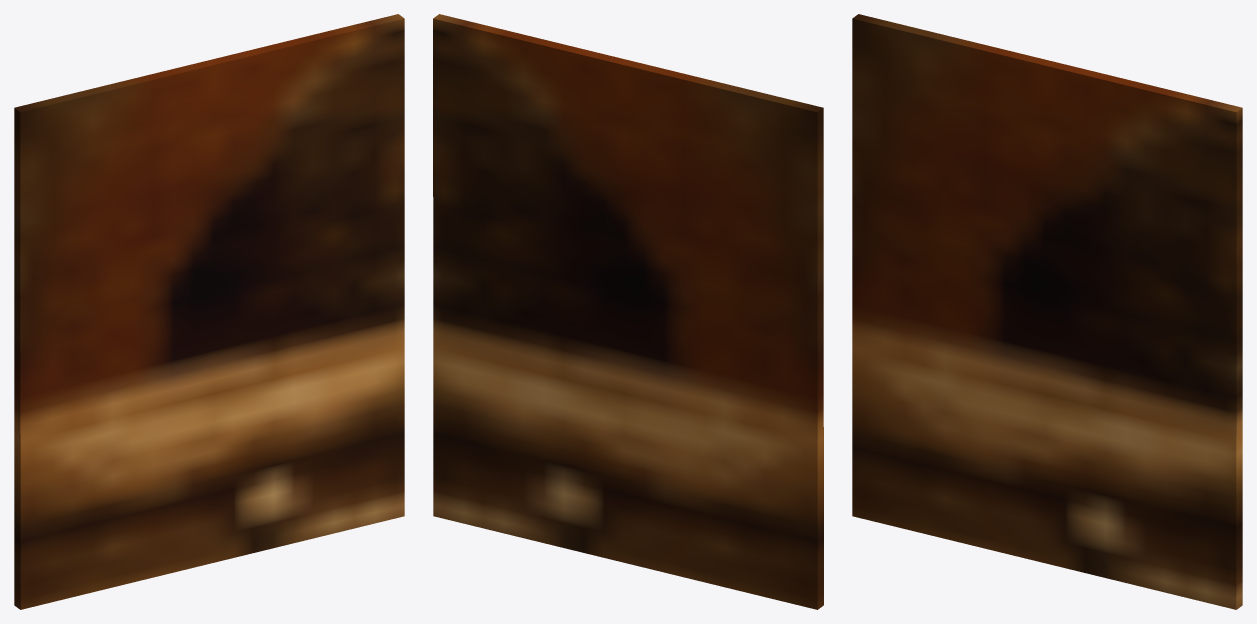
File: feather_nok_03.dae
3 views of the same model, side by side, from view 1: azimuth 30°, elevation 25°; view 2: azimuth 150°, elevation 25°; view 3: azimuth 330°, elevation 25° (orthographic).
Visible parts, largest first — view 1: a_feather_nok_03; view 2: a_feather_nok_03; view 3: a_feather_nok_03.
Part boxes in pixels (<box>): a_feather_nok_03: <box>14,14,404,609</box>; a_feather_nok_03: <box>433,14,823,609</box>; a_feather_nok_03: <box>852,14,1242,609</box>.
Size of the model in its own units: 0.7126 by 0.0205 by 0.8818.
